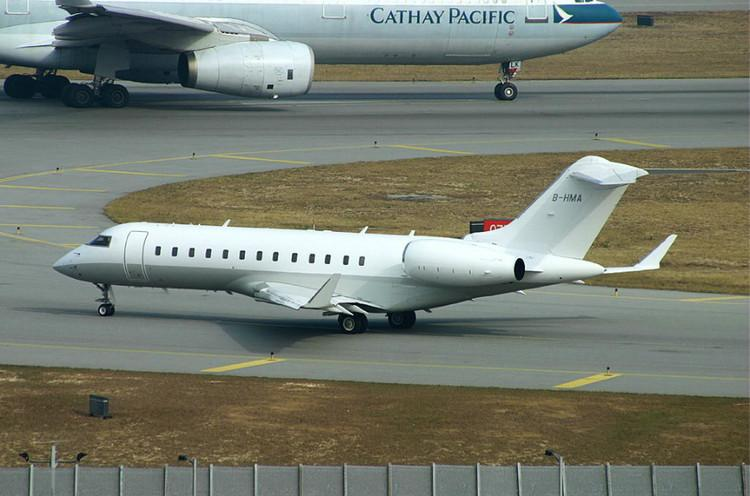airplane: (47, 153, 682, 340), (6, 1, 623, 108)
